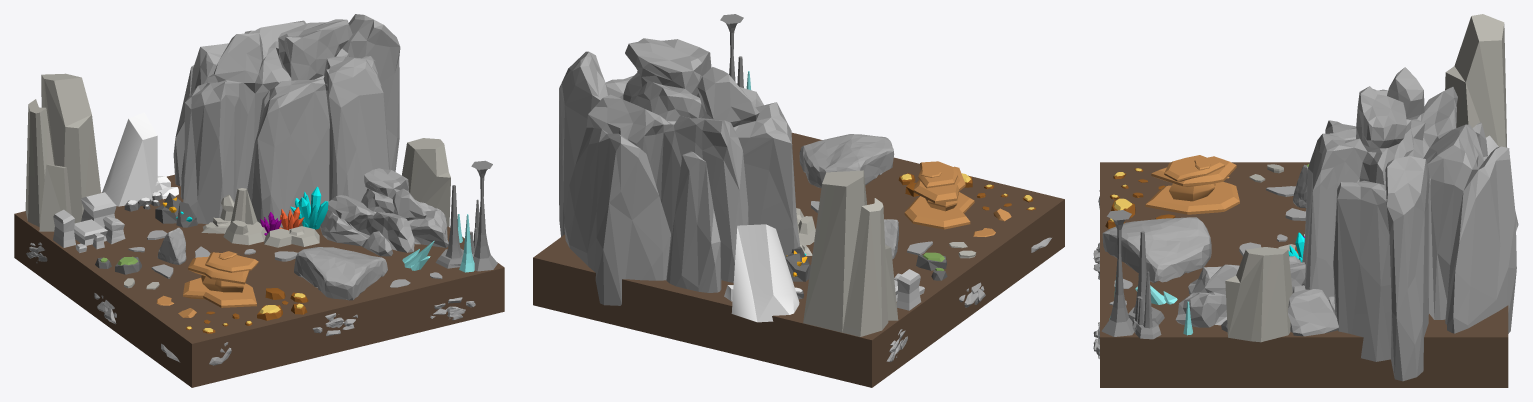
File: Rocks.fbx
3 renders of one model, left to right at view 1: azimuth 30°, elevation 25°; view 2: azimuth 150°, elevation 25°; view 3: azimuth 270°, elevation 25°, orthographic. The views are drawn at different scales.
Parts seen in each view (by area): view 1: Cube, Rock_Chunks_Large_Tall_01, Rock_Large_17, Rock_Chunks_Large_01, Rock_Large_Snow_01, Rock_Large_09, Rock_Large_18, Rock_Large_13, Rock_Medium_Dirt_03, Rock_Stalagmite_03, Rock_Stalactite_Stalagmite_Joined_01, Rock_Medium_04 (+15 smaller); view 2: Rock_Chunks_Large_Tall_01, Cube, Rock_Large_17, Rock_Large_Snow_01, Rock_Large_09, Rock_Medium_Dirt_03, Rock_Medium_Dirt_05, Rock_Geometric_Square_07, Rock_Medium_Dirt_04, Prop_Ore_Node_Yellow_03, Rock_Stalactite_Stalagmite_Joined_01, Rock_Large_07 (+2 smaller); view 3: Rock_Chunks_Large_Tall_01, Cube, Rock_Large_17, Rock_Large_18, Rock_Chunks_Large_01, Rock_Large_09, Rock_Medium_Dirt_03, Rock_Stalagmite_03, Rock_Stalactite_Stalagmite_Joined_01, Rock_Medium_Dirt_04, Rock_Medium_Dirt_05, Rock_Medium_Dirt_06 (+1 smaller).
Boxes of the visible parts, <box> form: Cube: <box>14,174,504,387</box>; Rock_Chunks_Large_Tall_01: <box>173,14,400,227</box>; Rock_Large_17: <box>25,73,100,231</box>; Rock_Chunks_Large_01: <box>320,168,448,256</box>; Rock_Large_Snow_01: <box>102,112,157,206</box>; Rock_Large_09: <box>294,247,387,300</box>; Rock_Large_18: <box>402,138,450,226</box>; Rock_Large_13: <box>223,188,266,245</box>; Rock_Medium_Dirt_03: <box>183,277,256,307</box>; Rock_Stalagmite_03: <box>435,185,479,268</box>; Rock_Stalactite_Stalagmite_Joined_01: <box>471,160,497,271</box>; Rock_Medium_04: <box>264,226,319,247</box>; Rock_Chunks_Large_Tall_01: <box>559,38,799,305</box>; Cube: <box>533,132,1064,387</box>; Rock_Large_17: <box>803,170,898,336</box>; Rock_Large_Snow_01: <box>731,224,799,322</box>; Rock_Large_09: <box>799,134,894,187</box>; Rock_Medium_Dirt_03: <box>904,192,974,229</box>; Rock_Medium_Dirt_05: <box>913,166,965,203</box>; Rock_Geometric_Square_07: <box>896,269,921,310</box>; Rock_Medium_Dirt_04: <box>918,161,957,188</box>; Prop_Ore_Node_Yellow_03: <box>785,250,810,281</box>; Rock_Stalactite_Stalagmite_Joined_01: <box>720,14,743,81</box>; Rock_Large_07: <box>884,219,898,259</box>; Rock_Chunks_Large_Tall_01: <box>1302,67,1516,381</box>; Cube: <box>1100,162,1508,387</box>; Rock_Large_17: <box>1445,14,1506,147</box>; Rock_Large_18: <box>1225,247,1292,342</box>; Rock_Chunks_Large_01: <box>1175,256,1338,336</box>; Rock_Large_09: <box>1102,217,1211,282</box>; Rock_Medium_Dirt_03: <box>1145,182,1239,214</box>; Rock_Stalagmite_03: <box>1128,231,1164,339</box>; Rock_Stalactite_Stalagmite_Joined_01: <box>1101,210,1134,336</box>; Rock_Medium_Dirt_04: <box>1164,155,1224,181</box>; Rock_Medium_Dirt_05: <box>1151,156,1236,187</box>; Rock_Medium_Dirt_06: <box>1169,183,1215,201</box>.
Size of the model in its own units: 11.6 by 6.99 by 10.89.
